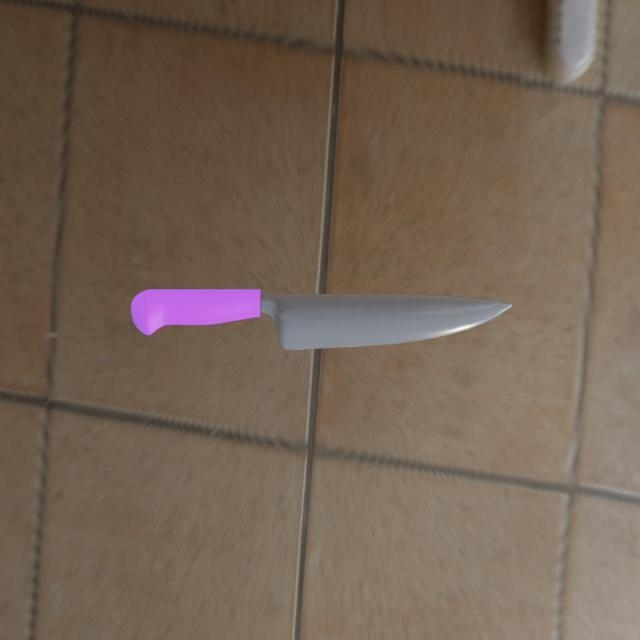knife: (130, 289, 263, 335)
